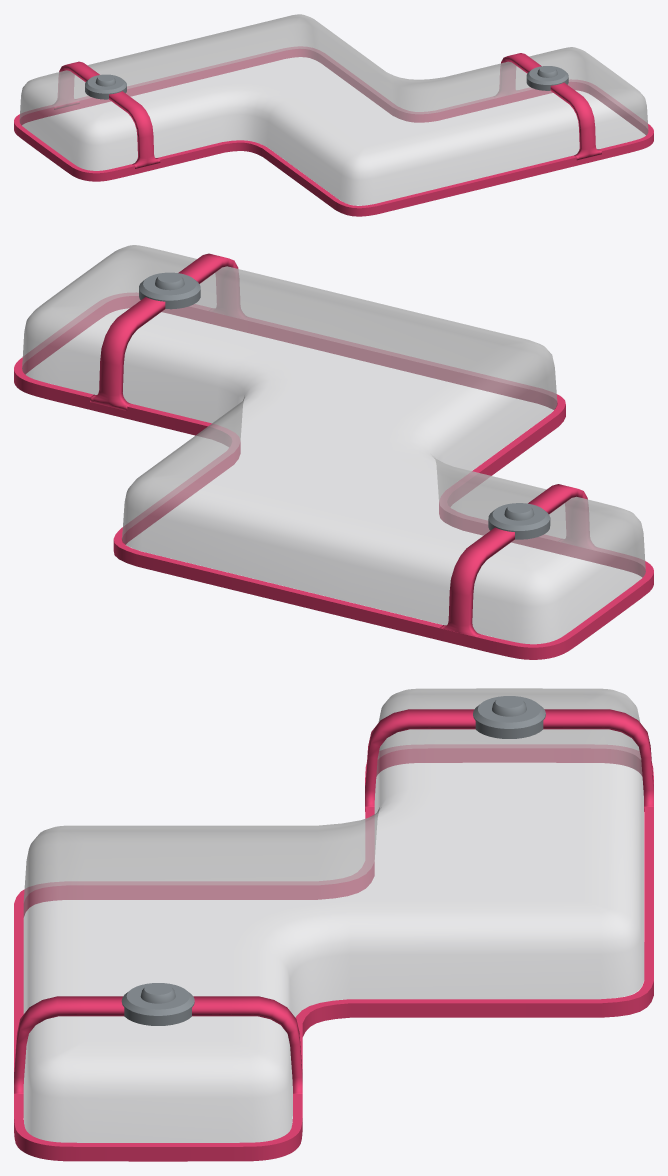
File: hop_L_S.fbx
3 views of the same model, one above another, from view 1: azimuth 30°, elevation 25°; view 2: azimuth 150°, elevation 25°; view 3: azimuth 270°, elevation 25° (orthographic). The views are drawn at different scales.
Visible parts, largest first — view 1: Cube.071, Cube.072, Cylinder.030, Cylinder.029; view 2: Cube.071, Cube.072, Cylinder.029, Cylinder.030; view 3: Cube.071, Cube.072, Cylinder.029, Cylinder.030.
Boxes of the visible parts, x1,y1,x2,y2 form: Cube.071: (19,14,648,205); Cube.072: (14,47,653,216); Cylinder.030: (526,66,568,90); Cylinder.029: (85,74,126,99); Cube.071: (22,245,645,644); Cube.072: (14,253,653,659); Cylinder.029: (488,503,550,539); Cylinder.030: (139,272,200,309); Cube.071: (23,688,644,1142); Cube.072: (14,709,653,1161); Cylinder.029: (473,696,545,738); Cylinder.030: (121,983,194,1025).
Size of the model in its own units: 597 by 75 by 401.
